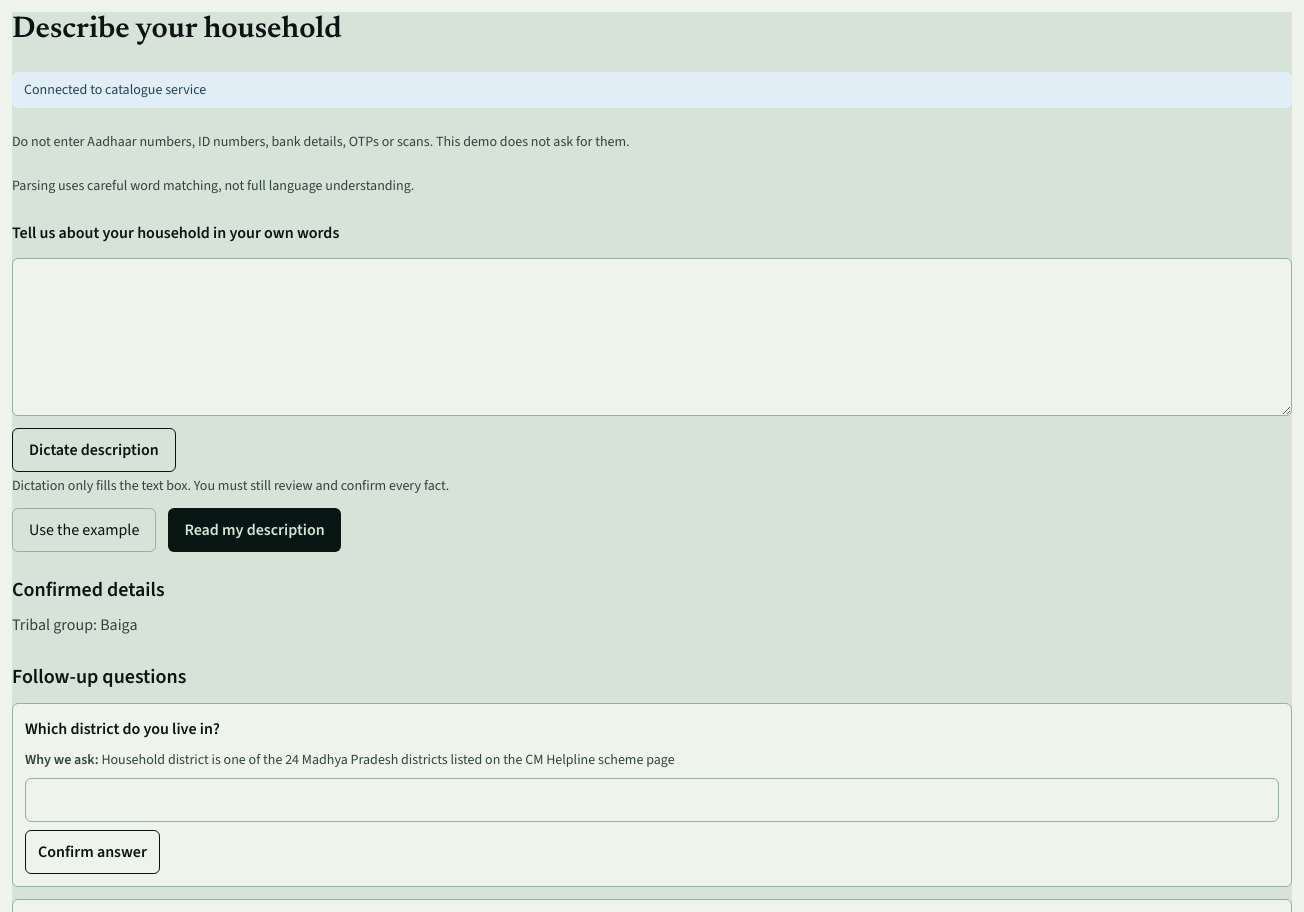
Intake › fills the example without submitting
Click the button "Use the example".
click(84, 530)  # box [12, 508, 156, 552]
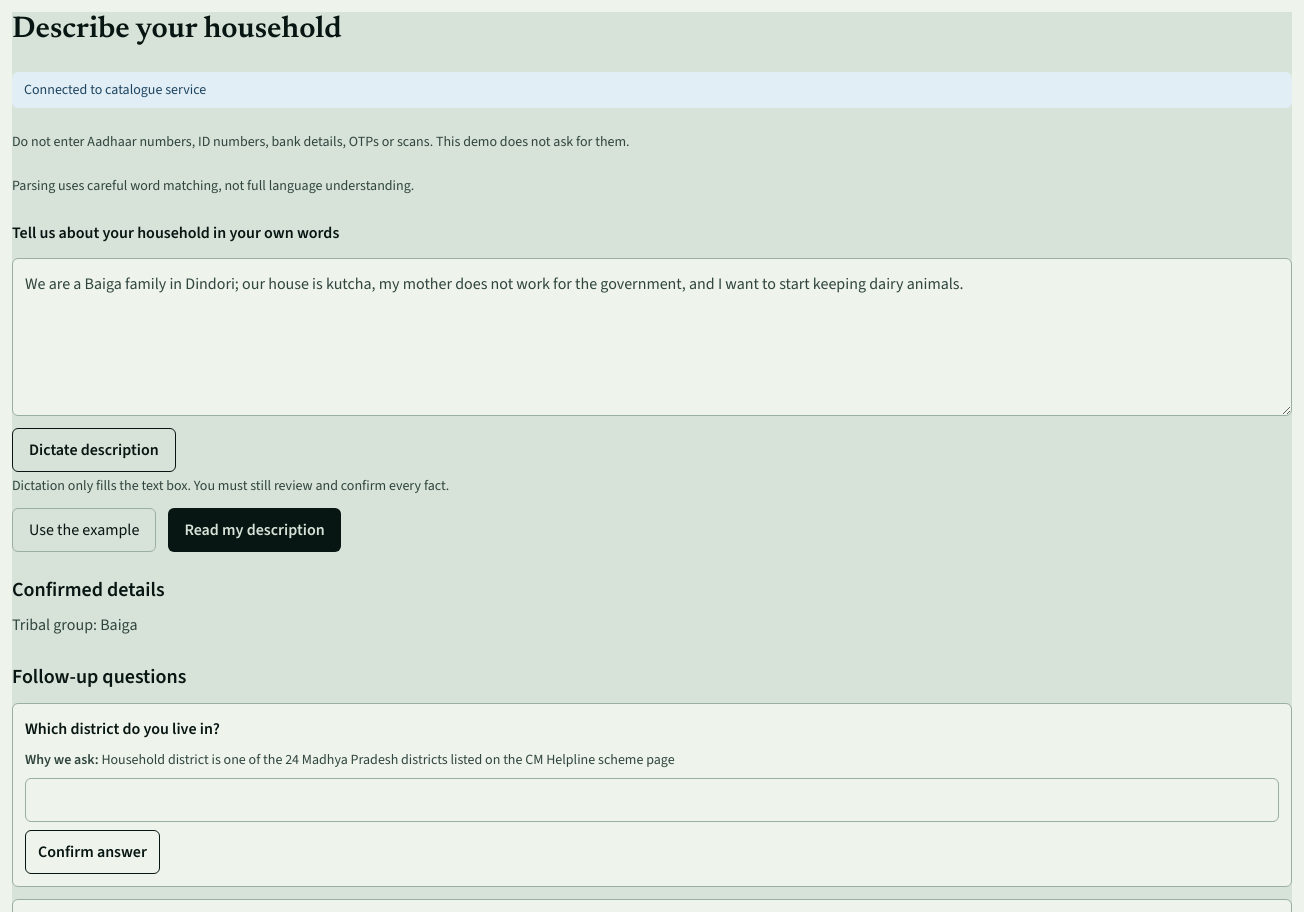
Result: the text box labelled "Tell us about your household in your own words" holds "We are a Baiga family in Dindori; our house is kutcha, my mother does not work for the government, and I want to start keeping dairy animals." at [12, 258, 1292, 416]
